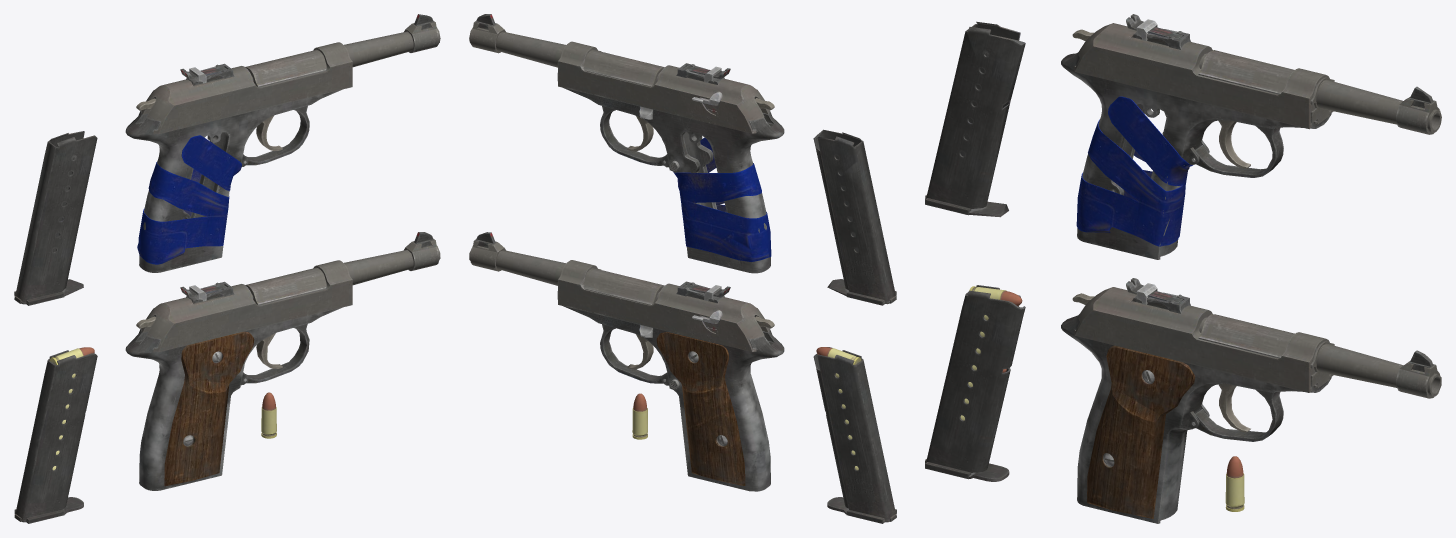
The model's file is service_pistol.glb.
3 renders of one model, left to right at view 1: azimuth 30°, elevation 25°; view 2: azimuth 150°, elevation 25°; view 3: azimuth 330°, elevation 25°, orthographic. The views are drawn at different scales.
Visible parts, largest first — view 1: service_pistol_pistol_b, service_pistol_pistol_a, service_pistol_magazine_loaded, service_pistol_magazine_empty, service_pistol_slide_a, service_pistol_slide_b, service_pistol_bullet; view 2: service_pistol_pistol_b, service_pistol_pistol_a, service_pistol_magazine_loaded, service_pistol_magazine_empty, service_pistol_slide_b, service_pistol_slide_a, service_pistol_bullet; view 3: service_pistol_pistol_a, service_pistol_pistol_b, service_pistol_magazine_loaded, service_pistol_magazine_empty, service_pistol_slide_a, service_pistol_slide_b, service_pistol_bullet, service_pistol_trigger_b, service_pistol_trigger_a.
Boxes of the visible parts, x1=… form: service_pistol_pistol_b: x1=125, y1=14, x2=440, y2=272; service_pistol_pistol_a: x1=125, y1=232, x2=440, y2=490; service_pistol_magazine_loaded: x1=14, y1=347, x2=97, y2=523; service_pistol_magazine_empty: x1=14, y1=131, x2=97, y2=305; service_pistol_slide_a: x1=141, y1=260, x2=352, y2=352; service_pistol_slide_b: x1=141, y1=42, x2=352, y2=134; service_pistol_bullet: x1=261, y1=392, x2=276, y2=438; service_pistol_pistol_b: x1=469, y1=14, x2=784, y2=273; service_pistol_pistol_a: x1=469, y1=232, x2=784, y2=491; service_pistol_magazine_loaded: x1=813, y1=347, x2=896, y2=523; service_pistol_magazine_empty: x1=813, y1=129, x2=896, y2=305; service_pistol_slide_b: x1=558, y1=41, x2=772, y2=133; service_pistol_slide_a: x1=558, y1=260, x2=772, y2=351; service_pistol_bullet: x1=632, y1=393, x2=647, y2=439; service_pistol_pistol_a: x1=1061, y1=314, x2=1441, y2=523; service_pistol_pistol_b: x1=1061, y1=50, x2=1441, y2=259; service_pistol_magazine_loaded: x1=925, y1=285, x2=1025, y2=481; service_pistol_magazine_empty: x1=925, y1=21, x2=1025, y2=217; service_pistol_slide_a: x1=1073, y1=278, x2=1334, y2=392; service_pistol_slide_b: x1=1073, y1=14, x2=1334, y2=129; service_pistol_bullet: x1=1225, y1=456, x2=1244, y2=511; service_pistol_trigger_b: x1=1218, y1=120, x2=1250, y2=168; service_pistol_trigger_a: x1=1218, y1=383, x2=1250, y2=432.
Size of the model in its own units: 0.3016 by 0.2807 by 0.0318.
1 material, 1 textured.
